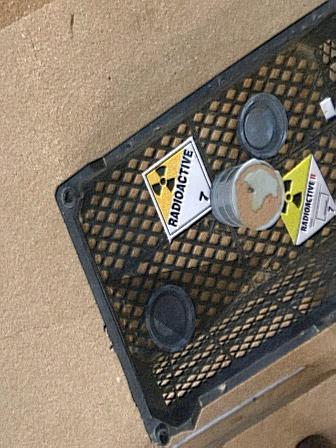radioactive: (141, 137, 219, 242), (275, 155, 336, 247)
